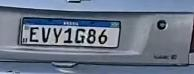Placa_mercosul_carro: (18, 17, 120, 48)
